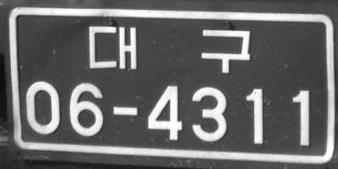0: (25, 79, 60, 135)
1: (285, 88, 319, 147), (239, 87, 273, 145)
3: (191, 85, 227, 142)
4: (148, 83, 182, 139)
6: (69, 81, 103, 136)
대구_D: (88, 24, 252, 74)
